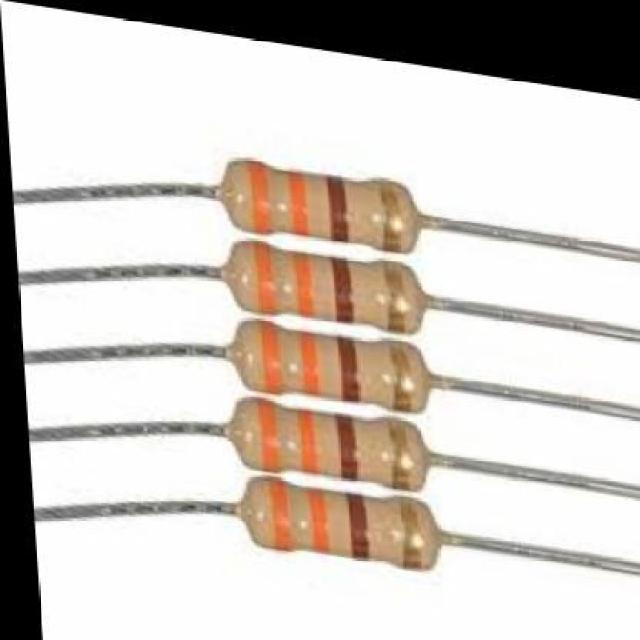Resistor: (15, 159, 640, 262), (20, 240, 640, 342), (26, 319, 640, 419), (35, 476, 640, 574), (120, 398, 640, 498)
